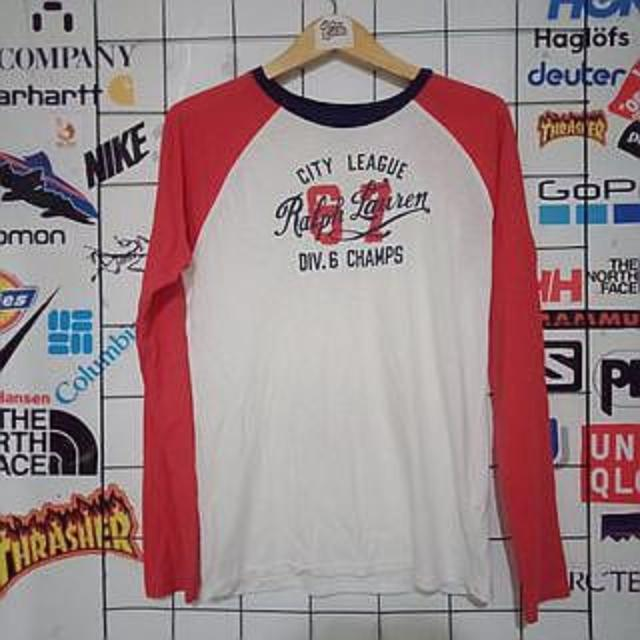T_SHIRT: (112, 58, 624, 619)
